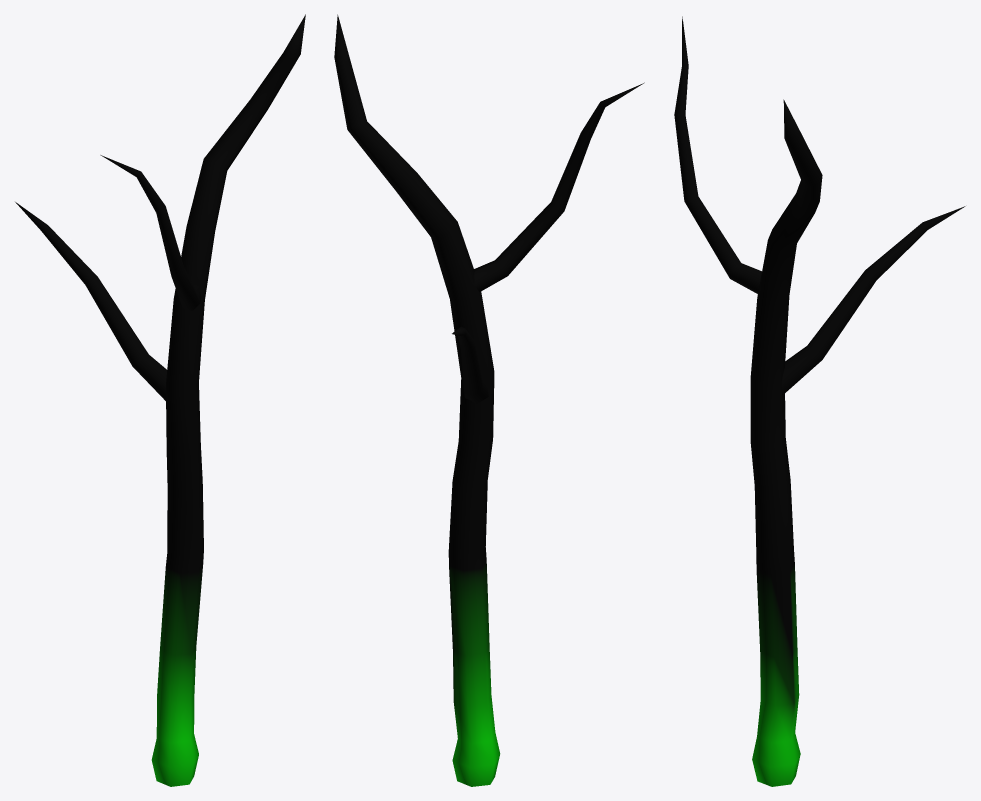
The model's file is SM_Collision_BirchTreeB1.fbx.
3 renders of one model, left to right at view 1: azimuth 30°, elevation 25°; view 2: azimuth 150°, elevation 25°; view 3: azimuth 270°, elevation 25°, orthographic. The views are drawn at different scales.
Parts seen in each view (by area): view 1: Collision_BirchTreeB1; view 2: Collision_BirchTreeB1; view 3: Collision_BirchTreeB1.
Boxes of the visible parts, x1=… form: Collision_BirchTreeB1: x1=15, y1=14, x2=305, y2=786; Collision_BirchTreeB1: x1=334, y1=14, x2=644, y2=786; Collision_BirchTreeB1: x1=674, y1=16, x2=965, y2=786.
Size of the model in its own units: 626 by 605 by 1705.
